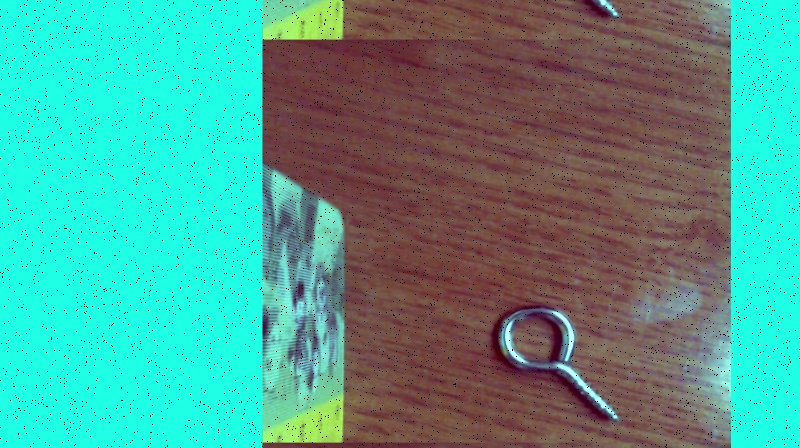O001: (490, 302, 623, 425)
